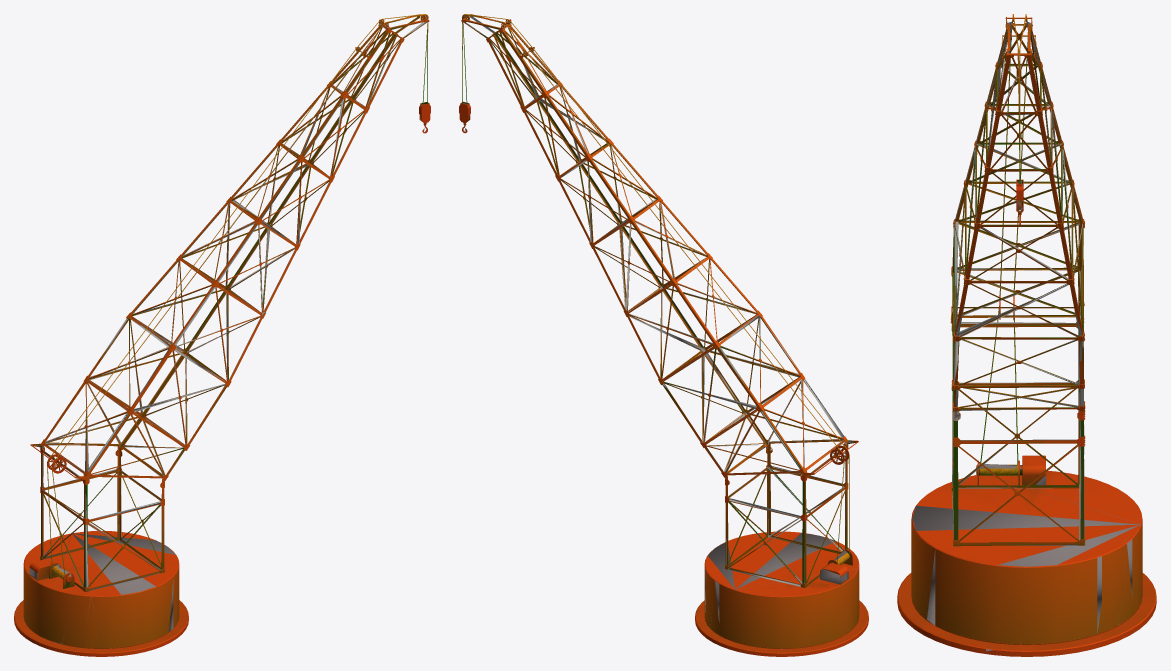
Rendered from KB3D_CSK_PropCraneD_A.glb.
3 renders of one model, left to right at view 1: azimuth 30°, elevation 25°; view 2: azimuth 150°, elevation 25°; view 3: azimuth 270°, elevation 25°, orthographic. The views are drawn at different scales.
Parts seen in each view (by area): view 1: L0, L2, L1; view 2: L0, L2, L1; view 3: L0, L2, L1.
Boxes of the visible parts, left/top/right/bottom form: L0: left=14, top=14, right=430, bottom=656; L2: left=29, top=15, right=427, bottom=643; L1: left=15, top=15, right=429, bottom=652; L0: left=459, top=14, right=868, bottom=656; L2: left=462, top=15, right=855, bottom=647; L1: left=460, top=14, right=867, bottom=652; L0: left=897, top=14, right=1156, bottom=656; L2: left=912, top=19, right=1155, bottom=656; L1: left=898, top=15, right=1155, bottom=654.
Bounding box in the file's own units: 27.63 × 35.03 × 10.42.
